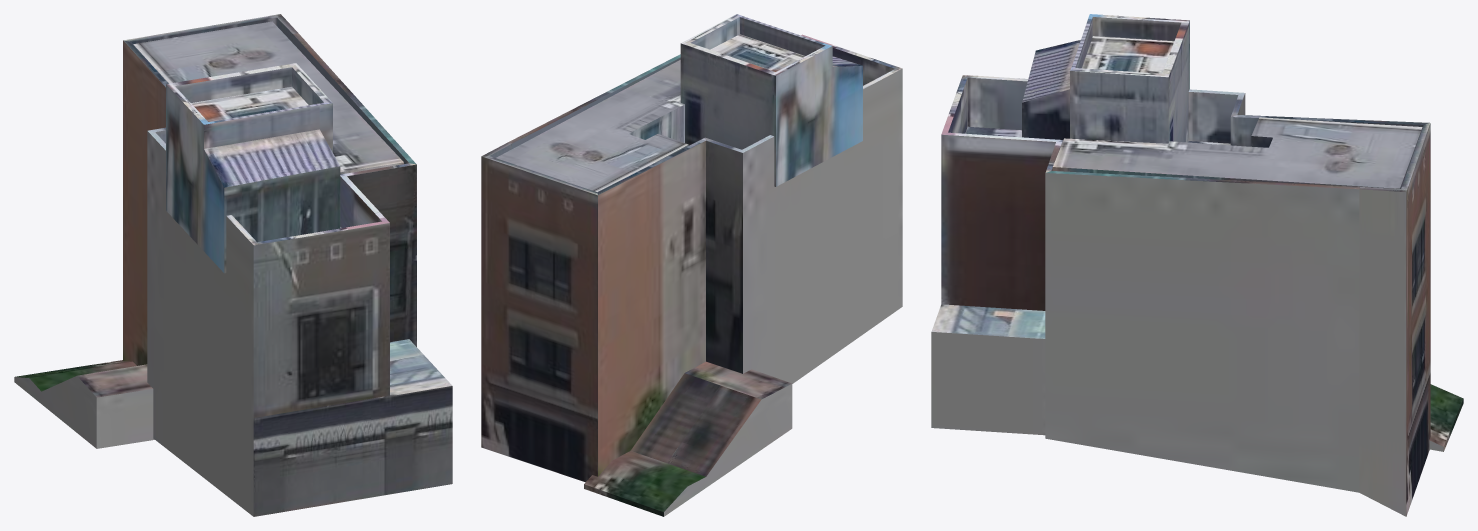
The picture shows the model from 3 angles, left to right: view 1: azimuth 30°, elevation 25°; view 2: azimuth 150°, elevation 25°; view 3: azimuth 270°, elevation 25°; orthographic projection. The views are drawn at different scales.
Parts seen in each view (by area): view 1: B280334033801063A0; view 2: B280334033801063A0; view 3: B280334033801063A0.
Part boxes in pixels (<box>): B280334033801063A0: <box>14,14,452,516</box>; B280334033801063A0: <box>481,14,902,516</box>; B280334033801063A0: <box>931,14,1463,516</box>.
Bounding box in the file's own units: 8.62 × 12.15 × 15.06.
Materials: 1 (1 with a texture image).
